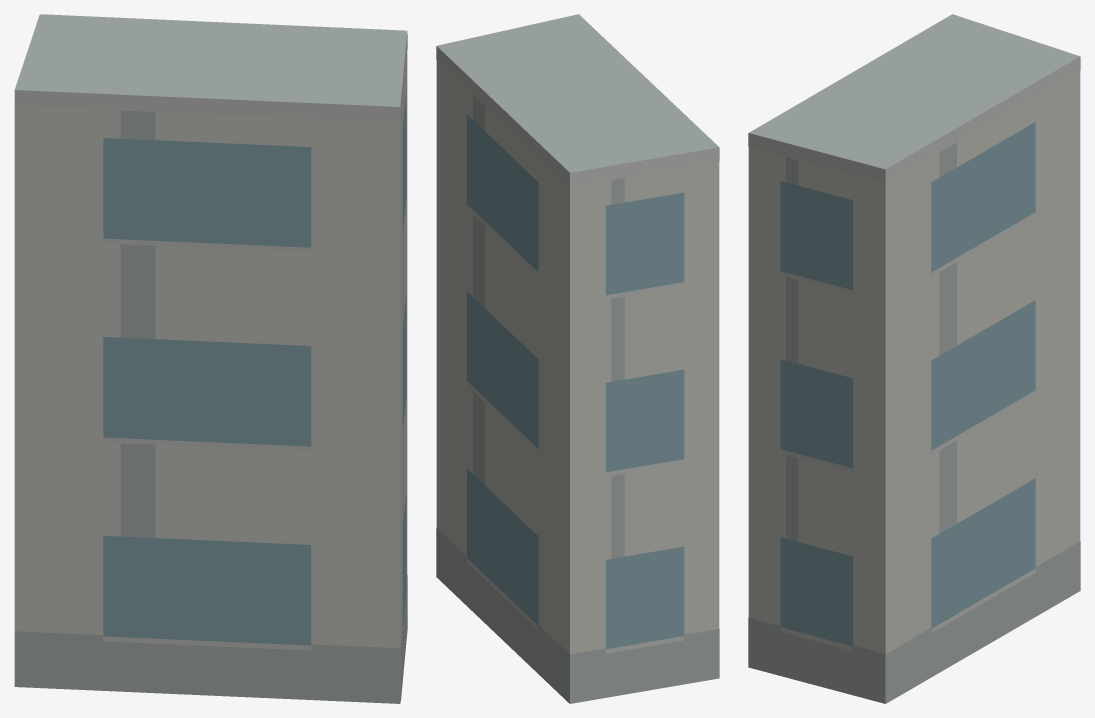
Rendered from survey-upis-32571560.glb.
3 renders of one model, left to right at view 1: azimuth 30°, elevation 25°; view 2: azimuth 150°, elevation 25°; view 3: azimuth 270°, elevation 25°, orthographic. The views are drawn at different scales.
Visible parts, largest first — view 1: survey-upis-32571560.tmp; view 2: survey-upis-32571560.tmp; view 3: survey-upis-32571560.tmp.
Boxes of the visible parts, x1,y1,x2,y2 form: survey-upis-32571560.tmp: (14, 14, 407, 703); survey-upis-32571560.tmp: (436, 14, 719, 703); survey-upis-32571560.tmp: (748, 14, 1080, 703).
Size of the model in its own units: 5.71 by 9.15 by 5.16.
